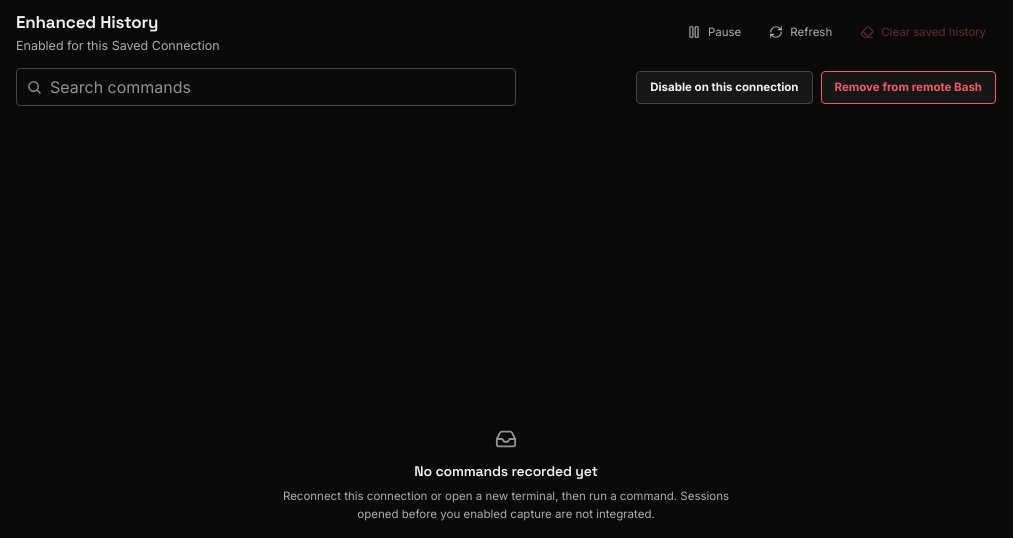
Test: HistoryPane › reports an empty integrated history separately from a failed history read
The image size is (1013, 538).
Check: the heading "No commands recorded yet" is shown, box top-left (414, 462), bottom-right (598, 480)
Click the button "Refresh" at {"x": 801, "y": 32}, box top-left (759, 18), bottom-right (842, 46)
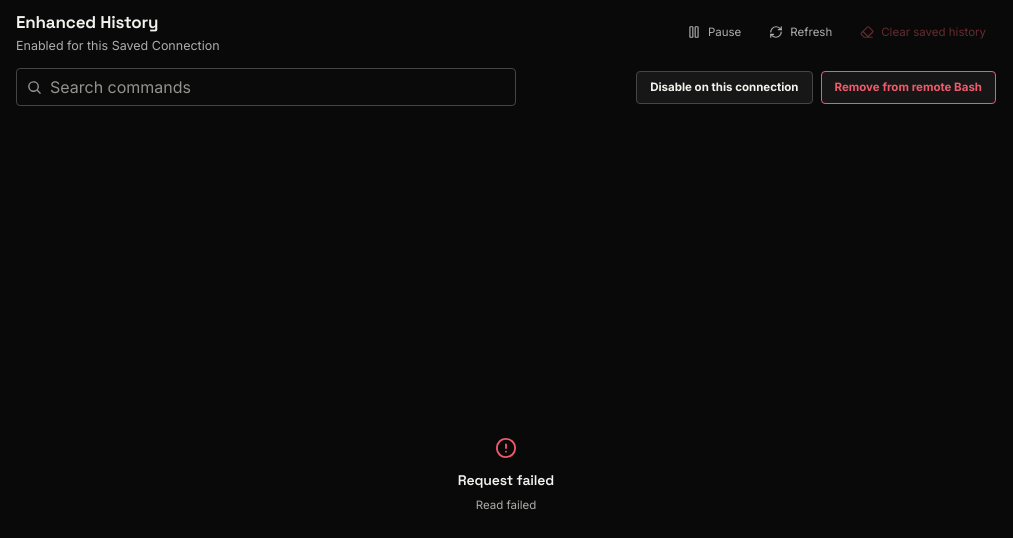
Check: the text "Read failed" is shown, box top-left (476, 497), bottom-right (536, 514)
Check: the heading "No commands recorded yet" is gone
